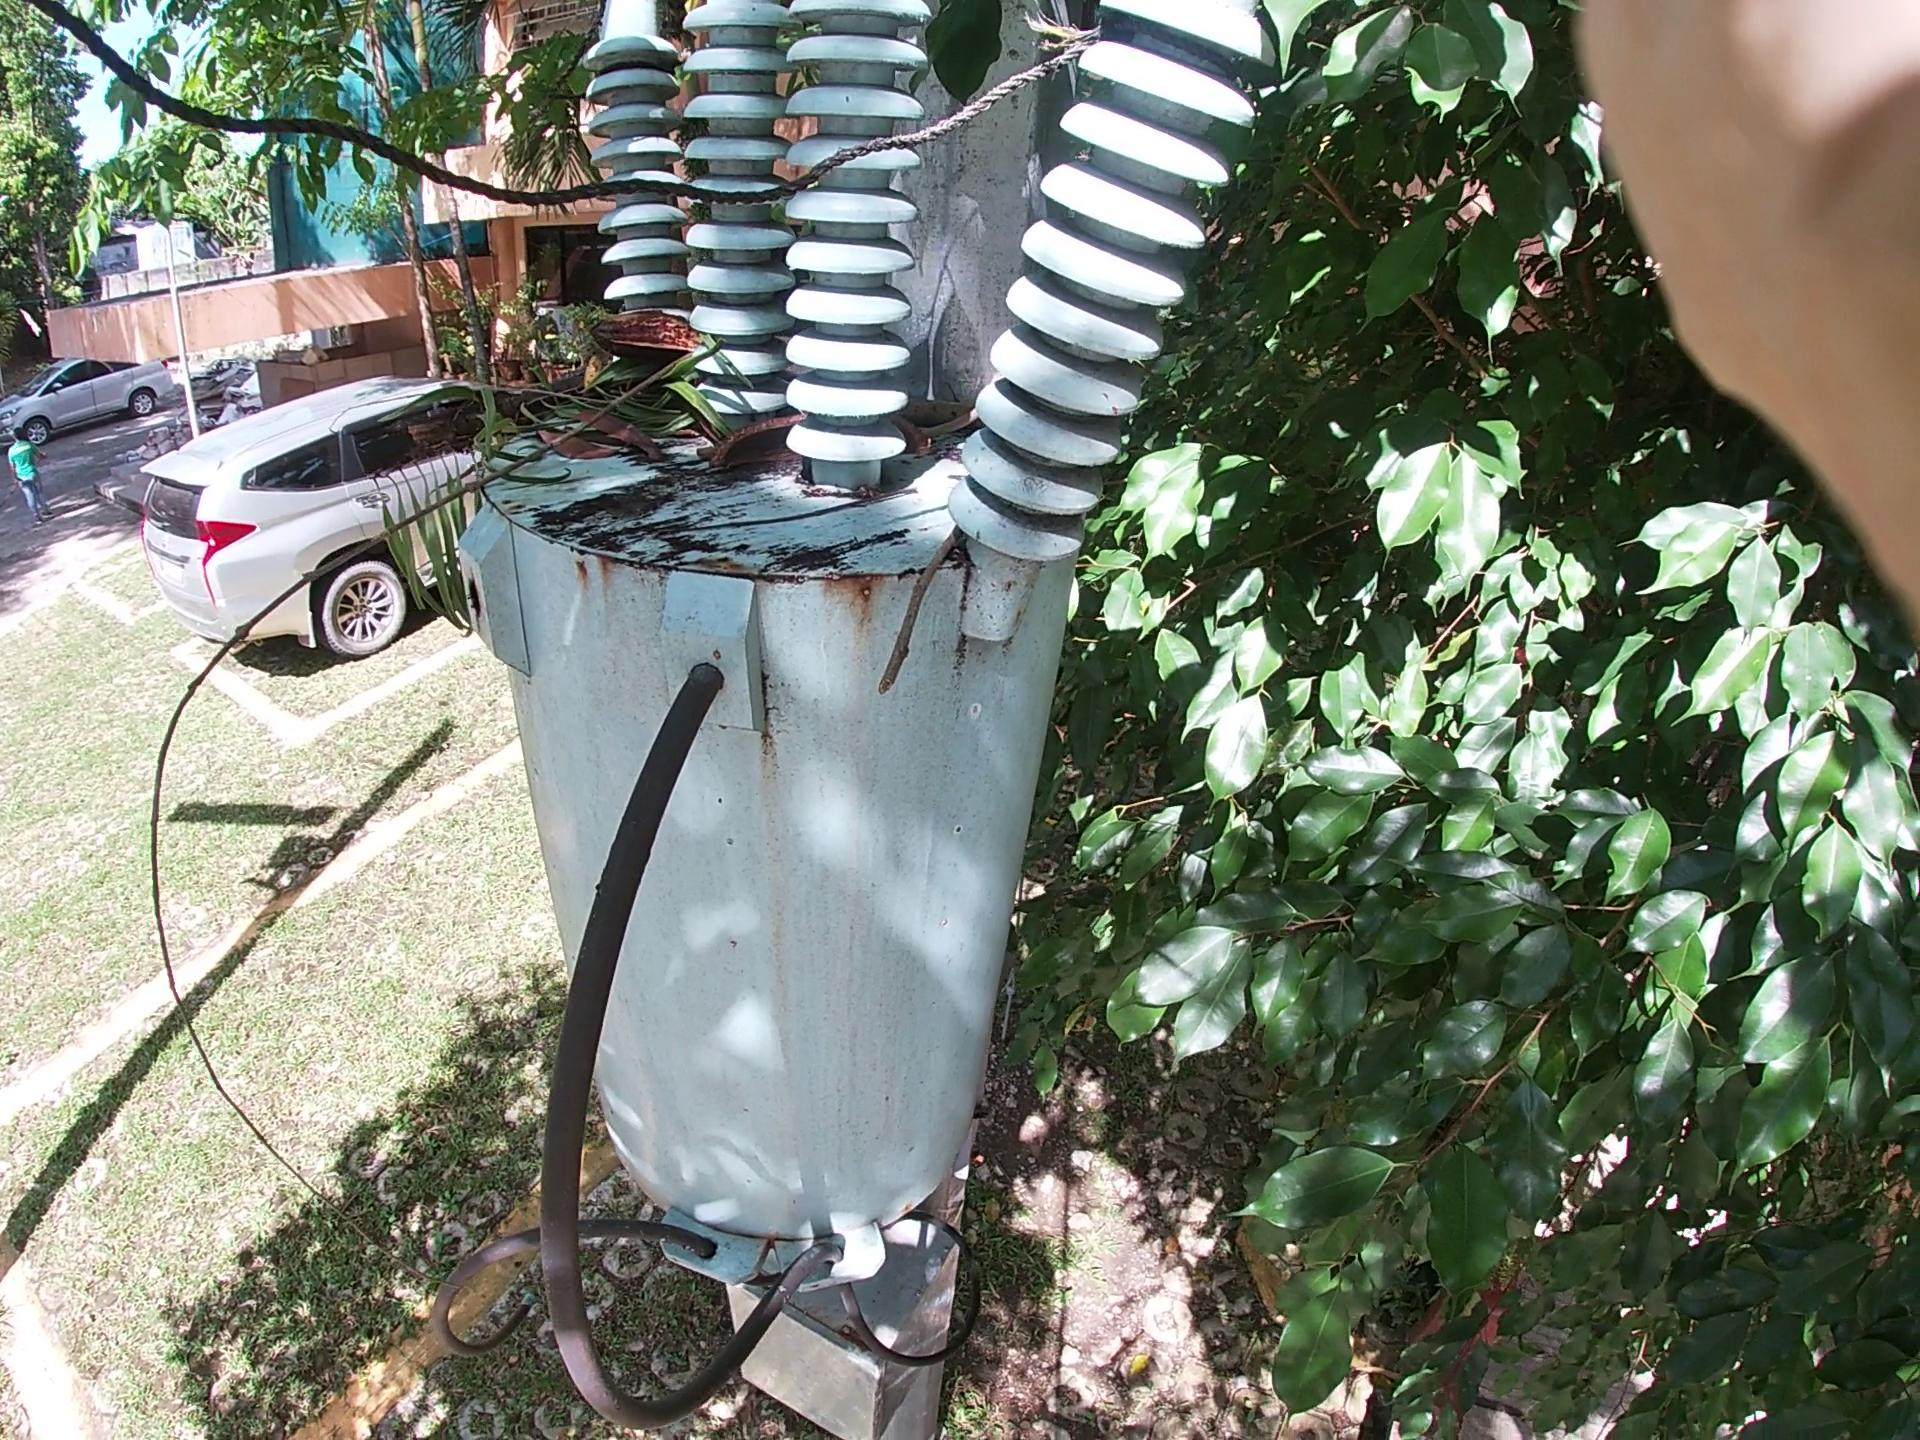branch with leaves: (342, 242, 692, 537)
leaf: (519, 399, 668, 493)
mahogany fruit: (671, 366, 925, 493), (578, 260, 759, 411)
tree branch: (257, 231, 831, 1172), (794, 442, 1037, 731), (828, 395, 1052, 483)
